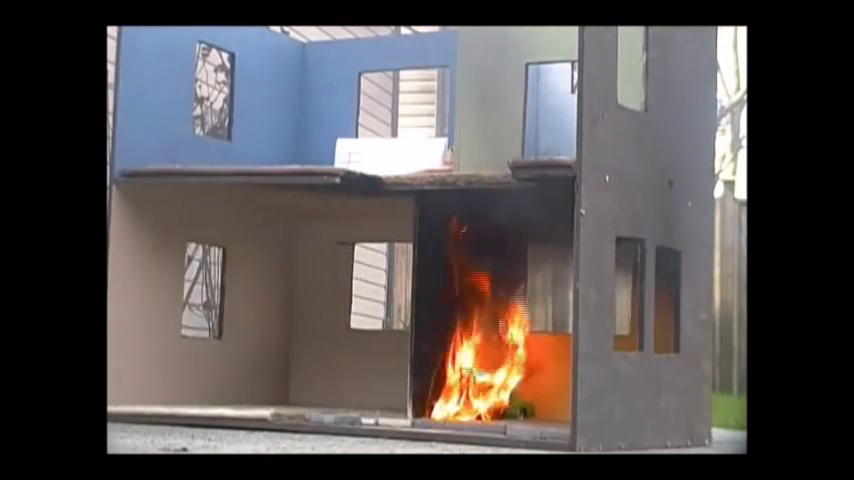fire: (440, 307, 527, 417)
